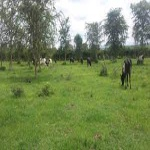Animal: (119, 56, 134, 88), (85, 55, 94, 69), (137, 53, 144, 66), (46, 57, 54, 68), (68, 55, 75, 67), (78, 55, 84, 66)
Uncultivated: (4, 54, 148, 149)
